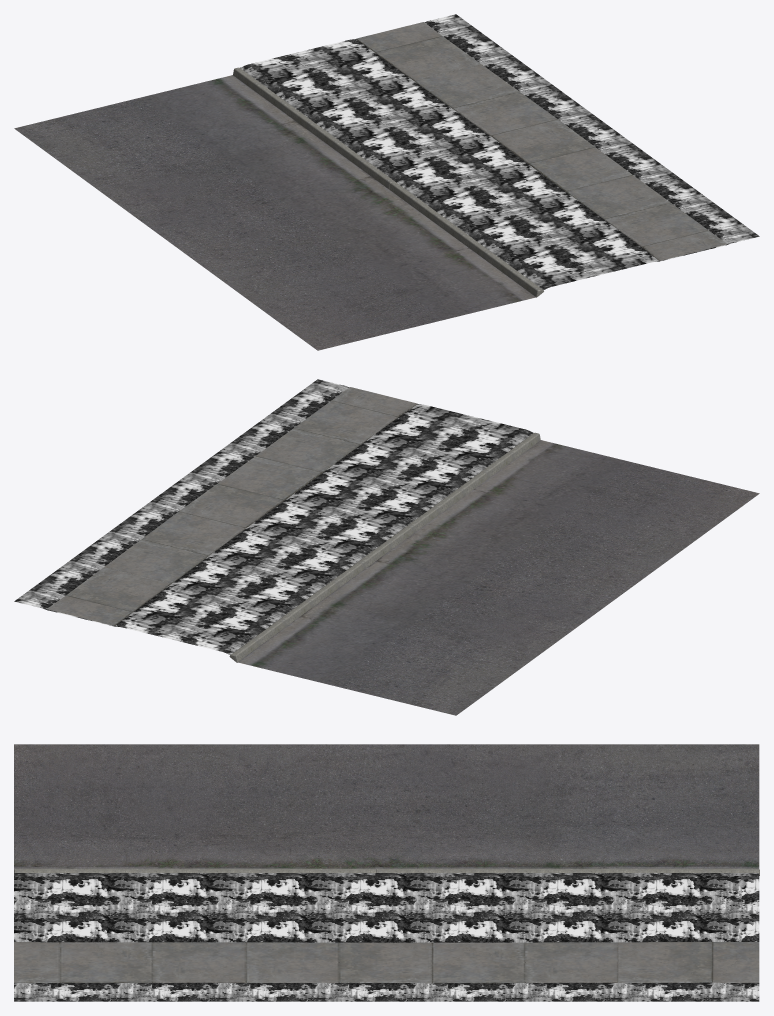
Rendered from SM_Road_01_Right.fbx.
3 renders of one model, top to bottom at view 1: azimuth 30°, elevation 25°; view 2: azimuth 150°, elevation 25°; view 3: azimuth 270°, elevation 25°, orthographic. The views are drawn at different scales.
Visible parts, largest first — view 1: SM_Road_01_Right; view 2: SM_Road_01_Right; view 3: SM_Road_01_Right.
Part boxes in pixels (box(x1,y1,x2,y2)): SM_Road_01_Right: box(14, 14, 759, 350); SM_Road_01_Right: box(14, 379, 759, 715); SM_Road_01_Right: box(14, 744, 759, 1001).
Bounding box in the file's own units: 782 × 931 × 12.66.
Materials: 4 (4 with a texture image).
